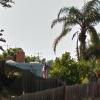Palm tree: (50, 3, 100, 83)
